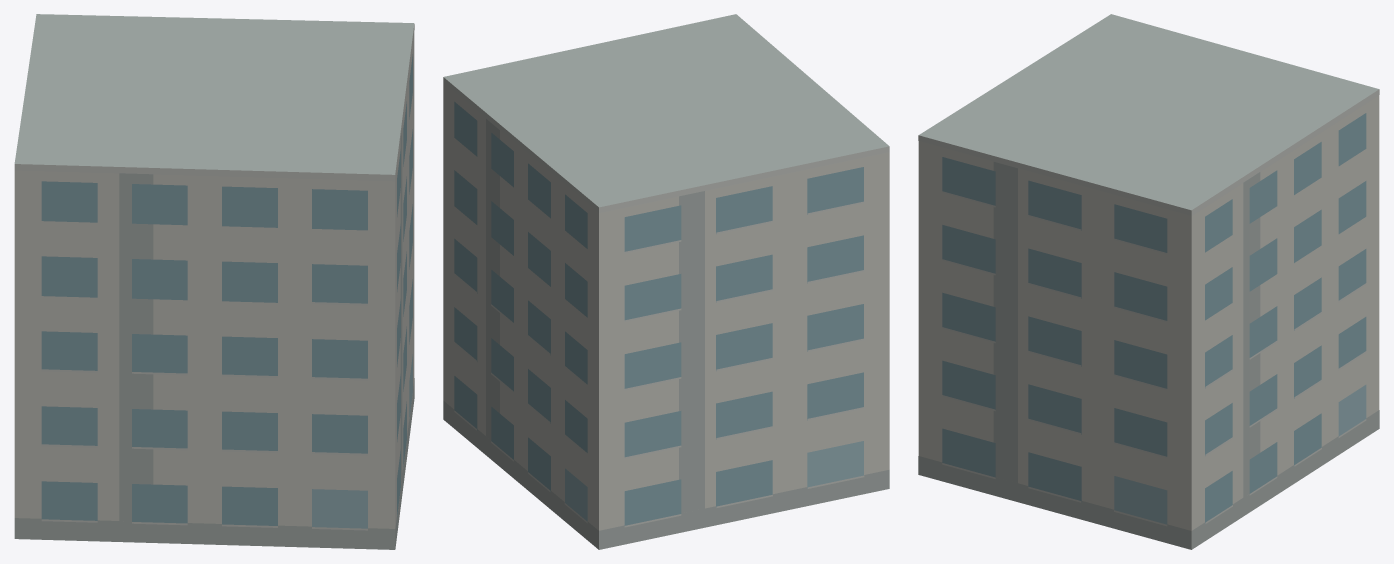
Rendered from survey-upis-33042305.glb.
3 views of the same model, side by side, from view 1: azimuth 30°, elevation 25°; view 2: azimuth 150°, elevation 25°; view 3: azimuth 270°, elevation 25° (orthographic). The views are drawn at different scales.
Visible parts, largest first — view 1: survey-upis-33042305.tmp; view 2: survey-upis-33042305.tmp; view 3: survey-upis-33042305.tmp.
Part boxes in pixels (x1=…): survey-upis-33042305.tmp: x1=14, y1=14, x2=414, y2=549; survey-upis-33042305.tmp: x1=443, y1=14, x2=889, y2=549; survey-upis-33042305.tmp: x1=918, y1=14, x2=1379, y2=549.
Size of the model in its own units: 17.86 by 14.4 by 17.72.
